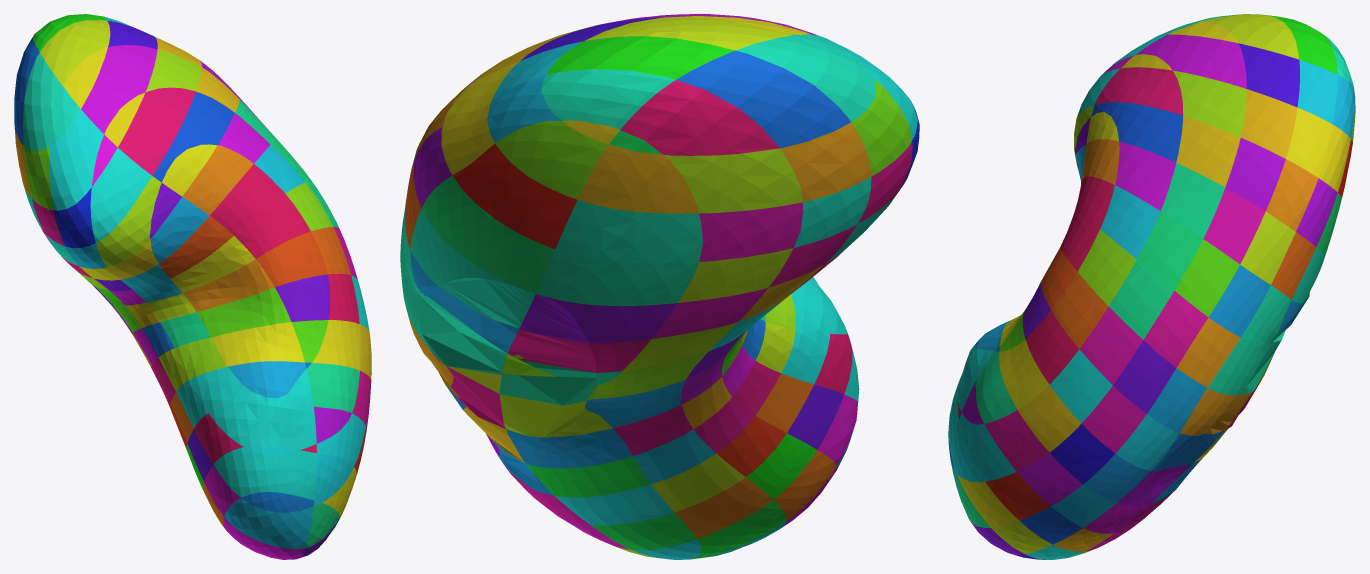
Rendered from kidney-male-left-vu.glb.
3 renders of one model, left to right at view 1: azimuth 30°, elevation 25°; view 2: azimuth 150°, elevation 25°; view 3: azimuth 270°, elevation 25°, orthographic. The views are drawn at different scales.
Visible parts, largest first — view 1: F-12-I, E-13-I, F-3-II, E-2-II, E-2-I, F-3-I, G-10-I, D-14-I, G-9-I, F-4-II, D-1-I, D-1-II (+59 smaller); view 2: C-1-I, B-1-I, A-3-I, A-4-II, A-4-I, B-2-I, A-3-II, A-2-I, B-1-II, A-5-II, A-2-II, A-5-I (+61 smaller); view 3: E-2-II, F-4-II, E-3-II, E-4-II, F-3-II, E-5-II, E-6-II, E-7-II, D-6-II, F-5-II, D-5-II, D-4-II (+60 smaller).
Boxes of the visible parts, x1=… form: F-12-I: x1=209, y1=399, x2=316, y2=449; E-13-I: x1=213, y1=447, x2=316, y2=500; F-3-II: x1=118, y1=87, x2=195, y2=175; E-2-II: x1=81, y1=45, x2=157, y2=133; E-2-I: x1=49, y1=109, x2=104, y2=210; F-3-I: x1=90, y1=147, x2=151, y2=242; G-10-I: x1=211, y1=322, x2=304, y2=366; D-14-I: x1=224, y1=498, x2=313, y2=549; G-9-I: x1=196, y1=287, x2=291, y2=337; F-4-II: x1=152, y1=91, x2=234, y2=182; D-1-I: x1=23, y1=53, x2=62, y2=151; D-1-II: x1=40, y1=20, x2=110, y2=86; C-1-I: x1=676, y1=50, x2=850, y2=148; B-1-I: x1=620, y1=80, x2=779, y2=155; A-3-I: x1=555, y1=200, x2=702, y2=263; A-4-II: x1=421, y1=175, x2=554, y2=293; A-4-I: x1=536, y1=249, x2=698, y2=306; B-2-I: x1=663, y1=148, x2=802, y2=213; A-3-II: x1=452, y1=144, x2=577, y2=248; A-2-I: x1=578, y1=144, x2=698, y2=213; B-1-II: x1=541, y1=69, x2=675, y2=129; A-5-II: x1=411, y1=208, x2=535, y2=328; A-2-II: x1=495, y1=121, x2=608, y2=199; A-5-I: x1=519, y1=294, x2=677, y2=343; E-2-II: x1=1136, y1=34, x2=1246, y2=88; F-4-II: x1=1091, y1=102, x2=1182, y2=162; E-3-II: x1=1173, y1=70, x2=1246, y2=137; E-4-II: x1=1176, y1=115, x2=1240, y2=187; F-3-II: x1=1094, y1=67, x2=1183, y2=115; E-5-II: x1=1161, y1=163, x2=1225, y2=238; E-6-II: x1=1137, y1=211, x2=1202, y2=290; E-7-II: x1=1109, y1=260, x2=1174, y2=339; D-6-II: x1=1174, y1=239, x2=1239, y2=316; F-5-II: x1=1115, y1=141, x2=1175, y2=210; D-5-II: x1=1203, y1=187, x2=1265, y2=264; D-4-II: x1=1225, y1=137, x2=1285, y2=211.
Size of the model in its own units: 0.0749 by 0.1058 by 0.0816.
